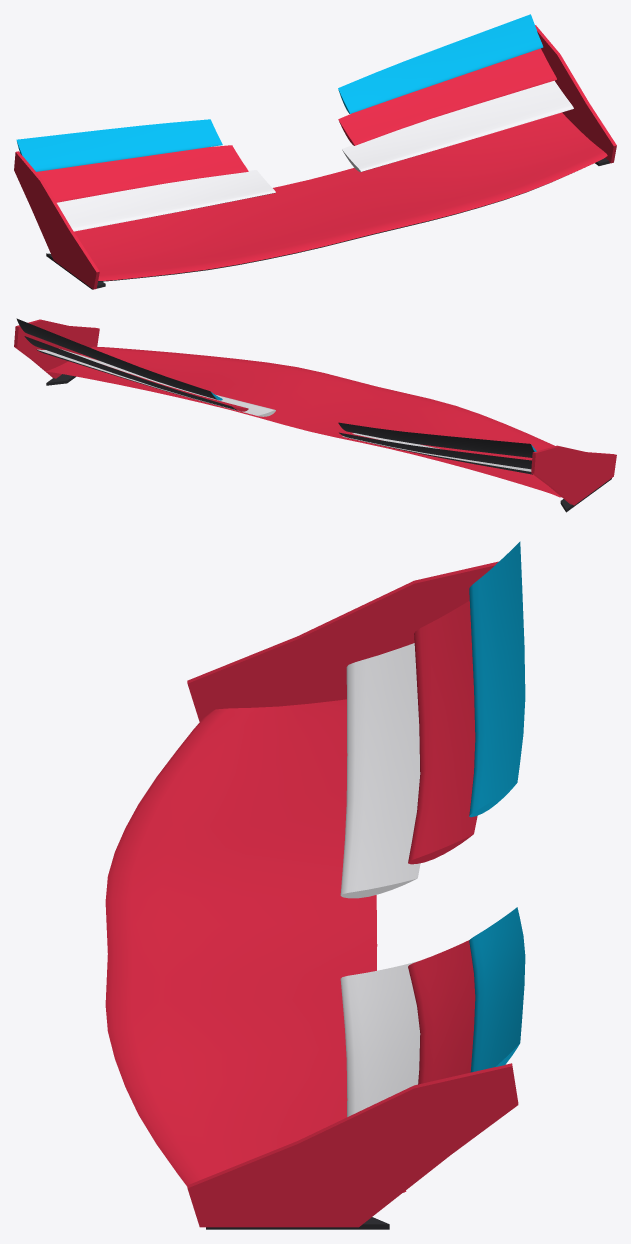
Rendered from standard.glb.
3 renders of one model, top to bottom at view 1: azimuth 30°, elevation 25°; view 2: azimuth 150°, elevation 25°; view 3: azimuth 270°, elevation 25°, orthographic. The views are drawn at different scales.
Parts seen in each view (by area): view 1: FrontWing_standard; view 2: FrontWing_standard; view 3: FrontWing_standard.
Boxes of the visible parts, x1,y1,x2,y2 form: FrontWing_standard: (14,14,616,289); FrontWing_standard: (14,318,616,512); FrontWing_standard: (105,541,525,1229).
Bounding box in the file's own units: 1.96 × 0.3313 × 0.6854.
